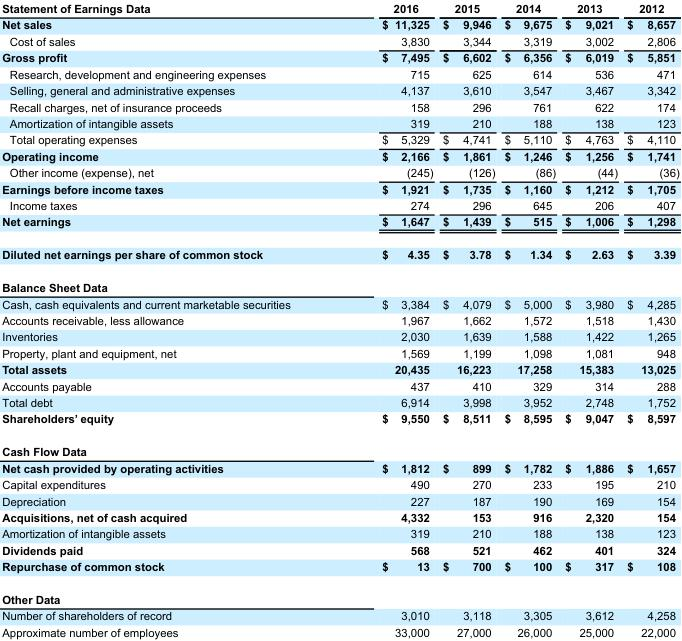table: (1, 1, 678, 638)
table column: (1, 1, 335, 638), (335, 1, 437, 638), (437, 1, 499, 638), (559, 1, 621, 638), (499, 1, 559, 638), (621, 1, 678, 638)
table column header: (1, 1, 678, 16)
table projected row header: (1, 270, 678, 295), (1, 434, 678, 459), (1, 582, 678, 607)
table row: (1, 237, 678, 270), (1, 270, 678, 295), (1, 434, 678, 459), (1, 582, 678, 607), (1, 213, 678, 237), (1, 410, 678, 434), (1, 558, 678, 582), (1, 32, 678, 49), (1, 65, 678, 82), (1, 114, 678, 131), (1, 147, 678, 164), (1, 196, 678, 213), (1, 311, 678, 328), (1, 344, 678, 361), (1, 393, 678, 410), (1, 475, 678, 492), (1, 508, 678, 525), (1, 541, 678, 558), (1, 16, 678, 32), (1, 49, 678, 65), (1, 82, 678, 98), (1, 98, 678, 114), (1, 131, 678, 147), (1, 164, 678, 180), (1, 180, 678, 196), (1, 295, 678, 311), (1, 328, 678, 344), (1, 361, 678, 377), (1, 377, 678, 393), (1, 459, 678, 475), (1, 492, 678, 508), (1, 525, 678, 541), (1, 607, 678, 623), (1, 1, 678, 16), (1, 623, 678, 638)
